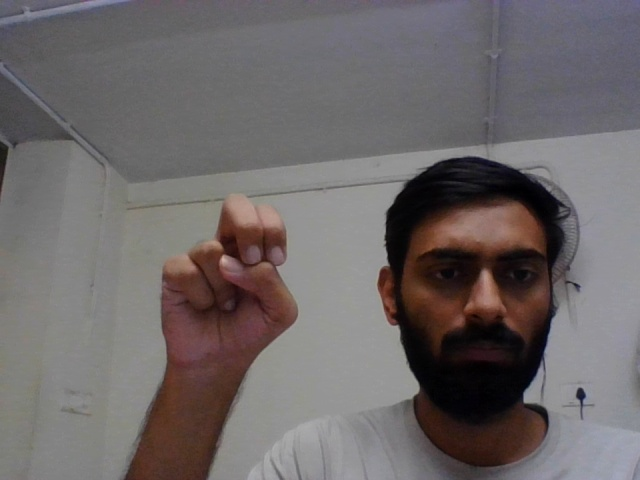N: (153, 182, 303, 406)
